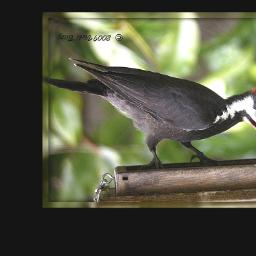Woodpecker: (44, 57, 256, 167)
